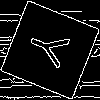Y: (25, 25, 79, 73)
